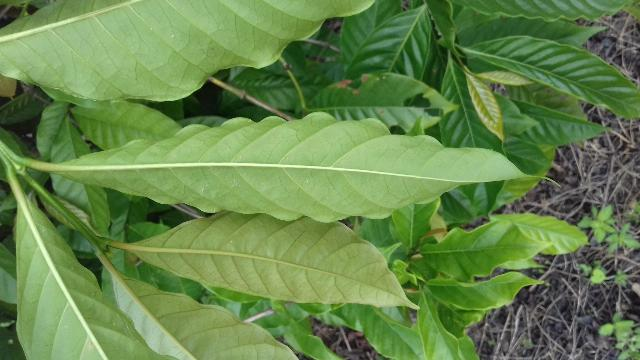healthy: (56, 111, 558, 224)
